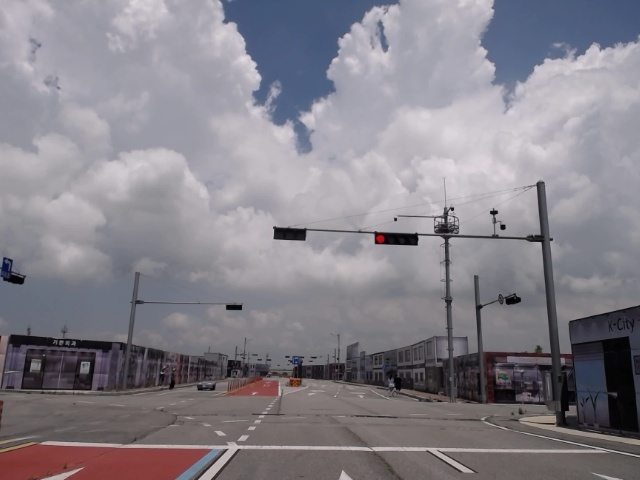red_4: (375, 232, 418, 246)
